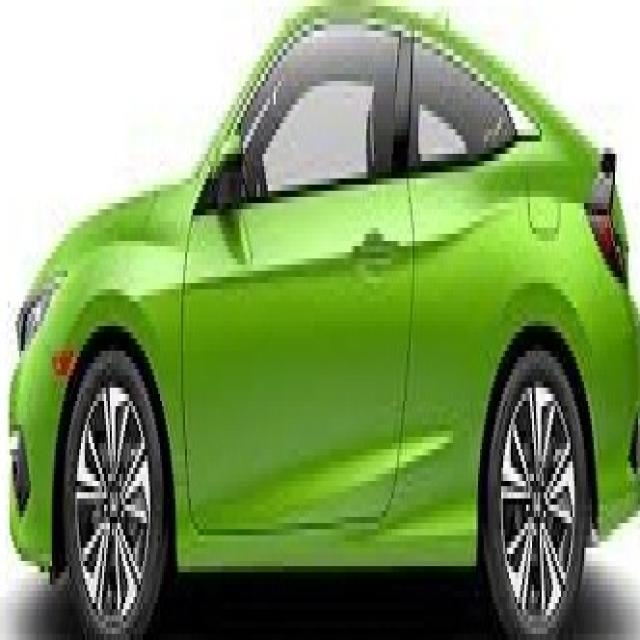green: (8, 3, 640, 640)
